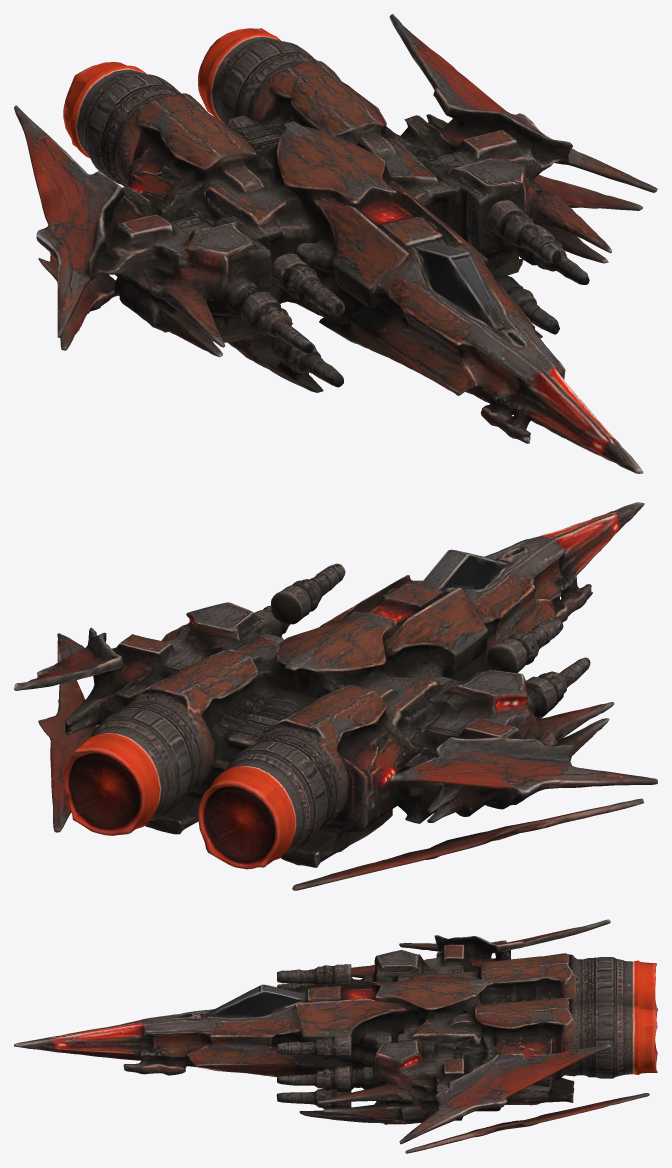
File: acechador_optimizado.glb
3 views of the same model, one above another, from view 1: azimuth 30°, elevation 25°; view 2: azimuth 150°, elevation 25°; view 3: azimuth 270°, elevation 25° (orthographic). The views are drawn at different scales.
Visible parts, largest first — view 1: input; view 2: input; view 3: input.
Boxes of the visible parts, <box> form: input: <box>14,14,657,473</box>; input: <box>14,502,657,890</box>; input: <box>14,919,657,1153</box>.
Size of the model in its own units: 0.5852 by 0.1475 by 0.8.
Materials: 1 (1 with a texture image).
